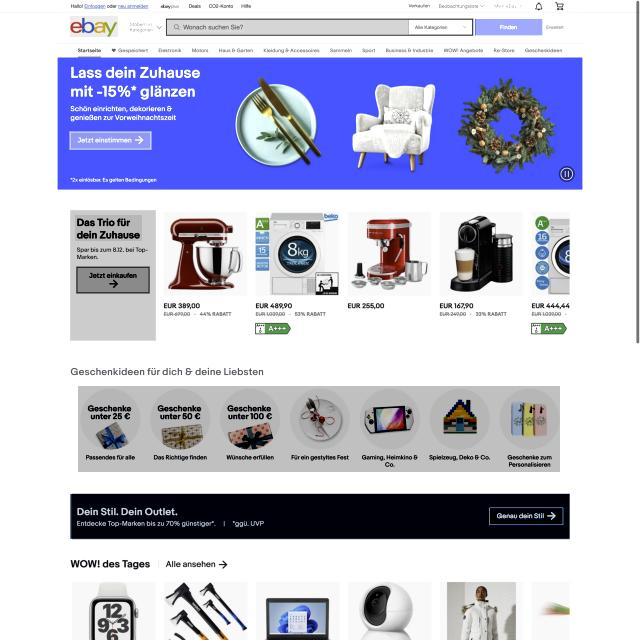CheckBox: (76, 266, 150, 294), (69, 131, 152, 150), (489, 506, 564, 526), (476, 18, 542, 36)
CheckedTextView: (166, 18, 474, 36)
ImageView: (72, 493, 570, 540), (70, 210, 156, 341)
alert: (409, 20, 472, 34), (127, 18, 163, 36), (437, 2, 485, 9), (494, 2, 524, 9)
bag: (57, 0, 582, 57)
breadcrumbs: (69, 366, 265, 379), (75, 215, 142, 241)
card: (58, 58, 582, 189)
date picker: (70, 16, 118, 37)
decoration: (78, 387, 560, 472), (76, 44, 564, 60), (406, 1, 524, 11)
footer: (183, 22, 244, 32)
